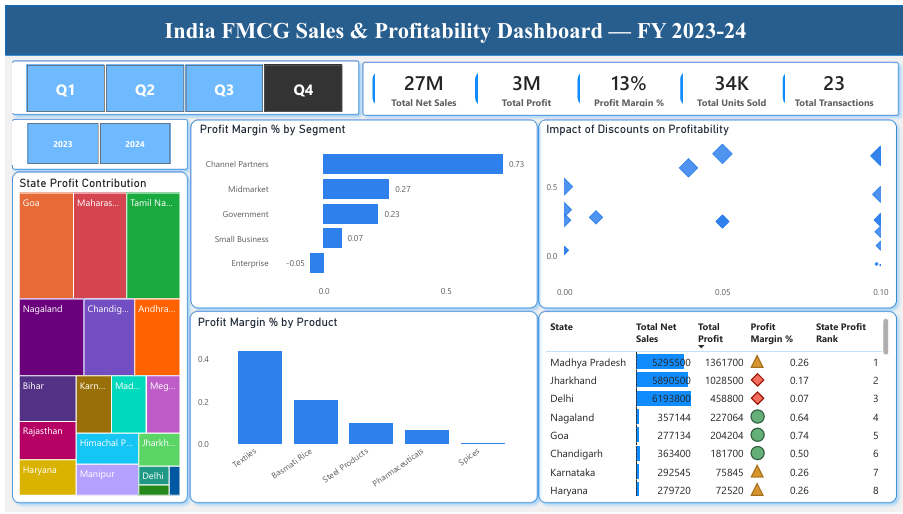

Layout of this report page (visuals, bound fields, positions):
{"tool":"powerbi","page":{"name":"Executive Summary ","canvas":[1280,720],"ordinal":0},"visuals":[{"type":"shape","box":[499,70.9,781.2,94.5],"z":0},{"type":"shape","box":[0,151.5,268.3,90.3],"z":1000},{"type":"shape","box":[0,226.6,268.3,489.3],"z":2000},{"type":"shape","box":[0,69.5,511.5,94.5],"z":3000},{"type":"shape","box":[749.2,425.3,528.2,290.5],"z":4000},{"type":"shape","box":[749.2,152.9,528.2,286.3],"z":5000},{"type":"shape","box":[254.4,152.9,511.5,286.3],"z":6000},{"type":"shape","title":"India FMCG Sales Dashboard — FY 2023-24","box":[0,0,1280.2,70],"z":7000},{"type":"textbox","box":[0,11.1,1280.2,58.4],"z":8000},{"type":"cardVisual","fields":{"Data":["FactSales.Total Net Sales","FactSales.Total Profit","FactSales.Profit Margin % D","FactSales.Total Units Sold","FactSales.Total Transactions"]},"box":[511.5,82,750.6,70.9],"z":9000},{"type":"slicer","fields":{"Values":["DateTable.Year"]},"box":[9.7,165.4,243.2,61.2],"z":10000},{"type":"slicer","fields":{"Values":["DateTable.Quarter"]},"box":[9,82,489,70.9],"z":11000},{"type":"tableEx","title":"dfv","fields":{"Values":["FactSales.State","FactSales.Total Net Sales","FactSales.Total Profit","FactSales.Profit Margin %","FactSales.State Profit Rank"]},"box":[764.5,439.2,497.6,261.3],"z":12000},{"type":"clusteredBarChart","fields":{"Category":["FactSales.Segment"],"Y":["FactSales.Profit Margin %"]},"box":[271,165.4,480.9,258.5],"z":13000},{"type":"shape","box":[253,425.3,512.9,290.5],"z":14000},{"type":"clusteredColumnChart","fields":{"Category":["FactSales.Product"],"Y":["FactSales.Profit Margin %"]},"box":[268.3,439.2,480.9,261.3],"z":15000},{"type":"treemap","title":"State Profit Contribution","fields":{"Values":["FactSales.Profit Margin %"],"Group":["FactSales.State"]},"box":[13.9,241.9,239.1,458.7],"z":16000},{"type":"scatterChart","title":"Impact of Discounts on Profitability","fields":{"X":["FactSales.Discount Rate %"],"Y":["FactSales.Profit Margin %"],"Category":["FactSales.State"],"Size":["FactSales.Profit Margin %"]},"box":[764.5,165.4,497.6,259.9],"z":17000}]}

Visuals, with their boxes in screenshot pixels (x1, y1, x2, y2), scaled from the page's 1280x720 canvas onto the 903x514 screenshot:
shape: Rect(352, 51, 902, 118)
shape: Rect(0, 108, 189, 173)
shape: Rect(0, 162, 189, 511)
shape: Rect(0, 50, 361, 117)
shape: Rect(529, 304, 901, 511)
shape: Rect(529, 109, 901, 314)
shape: Rect(179, 109, 540, 314)
"India FMCG Sales Dashboard — FY 2023-24" shape: Rect(0, 0, 902, 50)
textbox: Rect(0, 8, 902, 50)
cardVisual - FactSales.Total Net Sales x FactSales.Total Profit: Rect(361, 59, 890, 109)
slicer - DateTable.Year: Rect(7, 118, 178, 162)
slicer - DateTable.Quarter: Rect(6, 59, 351, 109)
"dfv" tableEx: Rect(539, 314, 890, 500)
clusteredBarChart - FactSales.Segment x FactSales.Profit Margin %: Rect(191, 118, 530, 303)
shape: Rect(178, 304, 540, 511)
clusteredColumnChart - FactSales.Product x FactSales.Profit Margin %: Rect(189, 314, 529, 500)
"State Profit Contribution" treemap: Rect(10, 173, 178, 500)
"Impact of Discounts on Profitability" scatterChart: Rect(539, 118, 890, 304)
